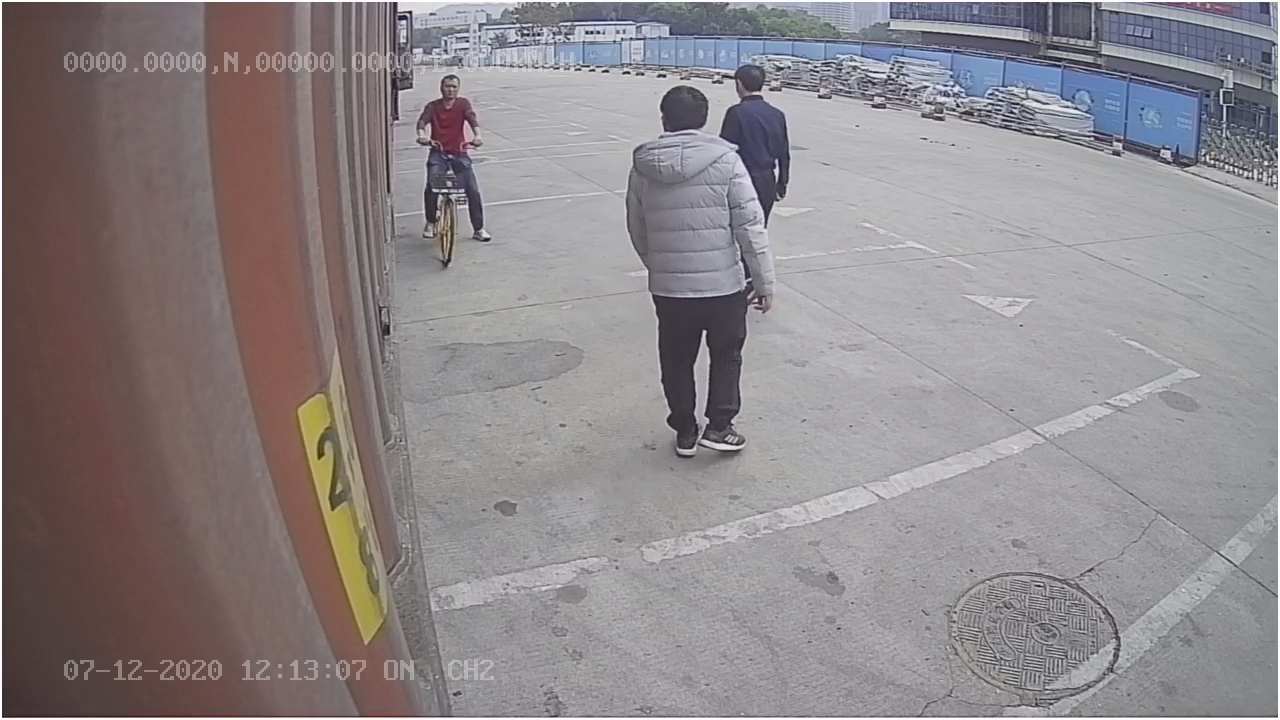person: (625, 83, 775, 456)
